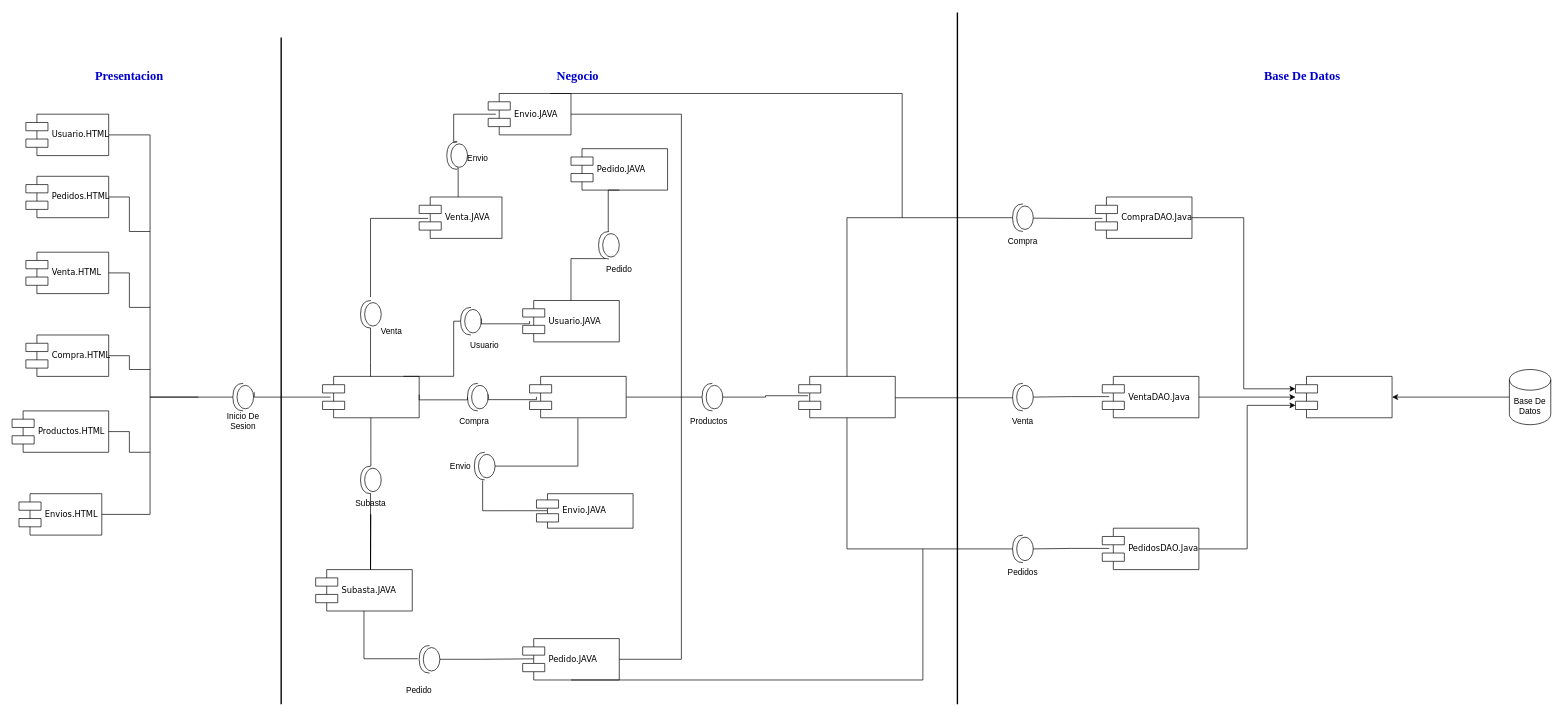
Some shapes in this 1563 by 717 pixel diagram are drawn without their labels. The shapes that lost their labels are listed below. From the top down, each one's centre as x and y in pixels, then its label:
At point (370, 397): "Validar Usuario".
At point (577, 397): "Compra.JAVA".
At point (846, 397): "Productos.JAVA".
At point (1343, 397): "JDBC".
